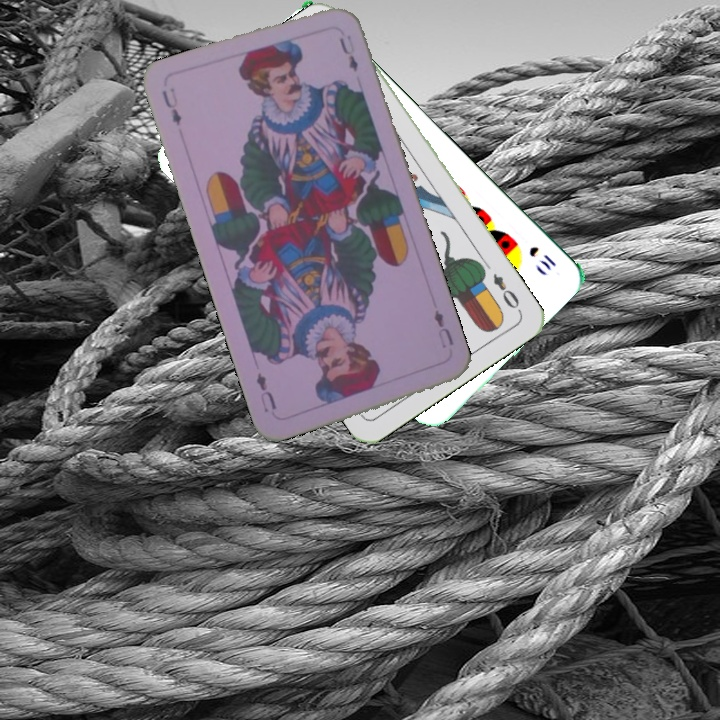EO: (488, 269, 522, 312)
EU: (430, 305, 456, 351), (158, 83, 184, 128)
S10: (524, 242, 559, 273)
